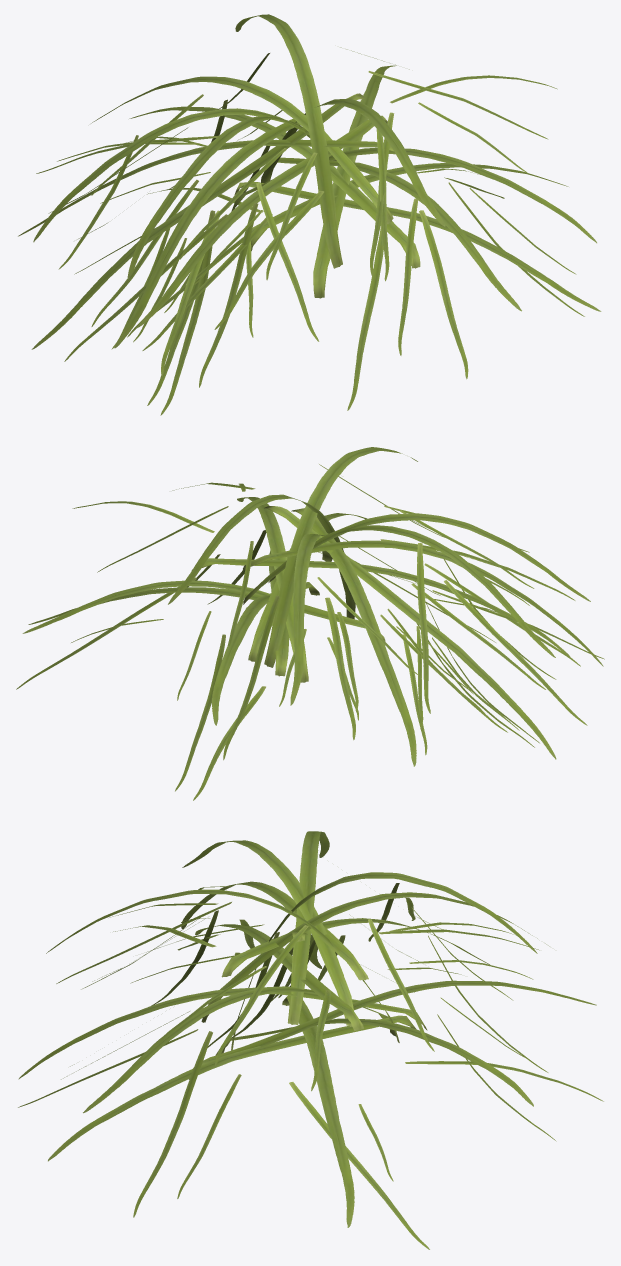
File: garden-hakonechloa.glb
3 views of the same model, one above another, from view 1: azimuth 30°, elevation 25°; view 2: azimuth 150°, elevation 25°; view 3: azimuth 270°, elevation 25° (orthographic). The views are drawn at different scales.
Visible parts, largest first — view 1: garden-hakonechloa; view 2: garden-hakonechloa; view 3: garden-hakonechloa.
Boxes of the visible parts, bbox=[...] form: garden-hakonechloa: bbox=[18, 14, 601, 415]; garden-hakonechloa: bbox=[16, 447, 604, 800]; garden-hakonechloa: bbox=[18, 831, 603, 1249].
Bounding box in the file's own units: 1.18 × 0.55 × 1.04.
1 material, 1 textured.
